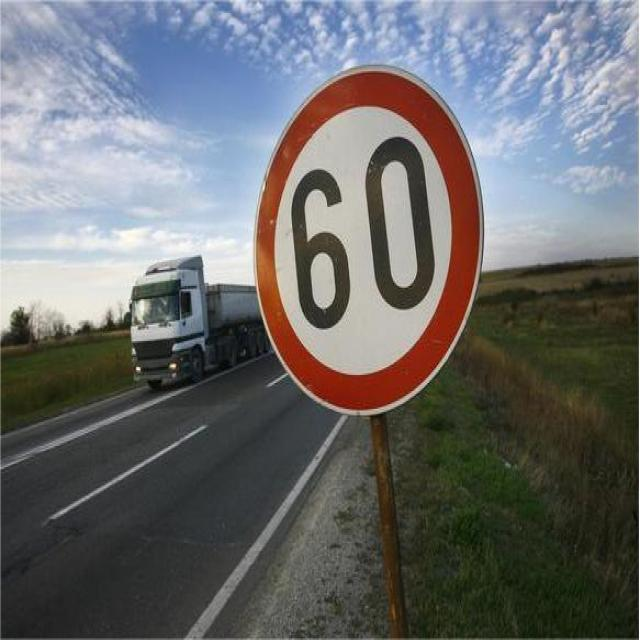speed limit 60: (251, 67, 483, 416)
